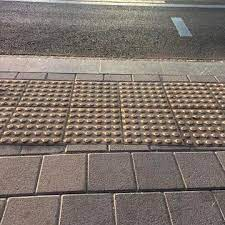guide_blocks: (1, 78, 225, 144)
